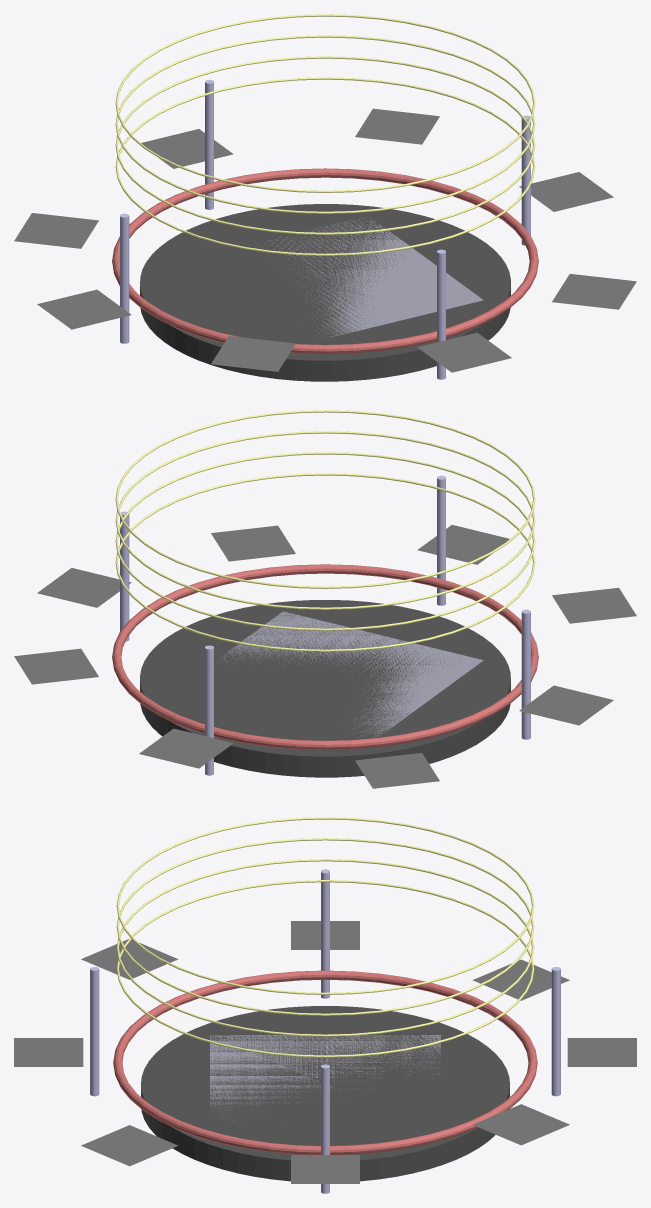
File: SkyArena.glb
3 renders of one model, top to bottom at view 1: azimuth 30°, elevation 25°; view 2: azimuth 150°, elevation 25°; view 3: azimuth 270°, elevation 25°, orthographic.
Parts seen in each view (by area): view 1: SkyStadium_Main, StageFloor, StadiumRing, Torus.004, Torus.003, Torus.002, Torus.001, Plane.006, Plane.003, Plane.001, Plane.005, Plane.004 (+7 smaller); view 2: SkyStadium_Main, StageFloor, StadiumRing, Torus.004, Torus.003, Torus.002, Torus.001, Plane.004, Plane.005, Plane.001, Plane.003, Plane.007 (+7 smaller); view 3: SkyStadium_Main, StadiumRing, StageFloor, Torus.004, Torus.003, Torus.001, Torus.002, Plane.001, Plane.007, Plane.002, Plane.006, Plane (+7 smaller).
Boxes of the visible parts, bbox=[...] form: SkyStadium_Main: bbox=[140, 204, 510, 381]; StageFloor: bbox=[256, 217, 483, 338]; StadiumRing: bbox=[112, 168, 538, 353]; Torus.004: bbox=[115, 14, 535, 192]; Torus.003: bbox=[115, 35, 535, 213]; Torus.002: bbox=[115, 56, 535, 234]; Torus.001: bbox=[115, 77, 535, 255]; Plane.006: bbox=[417, 332, 511, 372]; Plane.003: bbox=[14, 213, 98, 248]; Plane.001: bbox=[355, 108, 439, 144]; Plane.005: bbox=[211, 336, 295, 371]; Plane.004: bbox=[37, 289, 131, 329]; SkyStadium_Main: bbox=[140, 600, 510, 777]; StageFloor: bbox=[223, 611, 483, 737]; StadiumRing: bbox=[112, 564, 538, 749]; Torus.004: bbox=[115, 410, 535, 588]; Torus.003: bbox=[115, 431, 535, 609]; Torus.002: bbox=[115, 452, 535, 630]; Torus.001: bbox=[115, 473, 535, 651]; Plane.004: bbox=[519, 685, 613, 725]; Plane.005: bbox=[552, 587, 636, 623]; Plane.001: bbox=[14, 648, 98, 684]; Plane.003: bbox=[355, 753, 439, 788]; Plane.007: bbox=[211, 525, 295, 561]; SkyStadium_Main: bbox=[141, 1006, 509, 1181]; StadiumRing: bbox=[113, 970, 537, 1154]; StageFloor: bbox=[210, 1035, 440, 1123]; Torus.004: bbox=[116, 817, 534, 994]; Torus.003: bbox=[116, 838, 534, 1015]; Torus.001: bbox=[116, 880, 534, 1057]; Torus.002: bbox=[116, 859, 534, 1036]; Plane.001: bbox=[472, 1104, 569, 1145]; Plane.007: bbox=[81, 1125, 178, 1166]; Plane.002: bbox=[567, 1038, 636, 1066]; Plane.006: bbox=[14, 1038, 83, 1066]; Plane: bbox=[291, 1155, 359, 1183].
Bounding box in the file's own units: 27 × 9.55 × 27.
